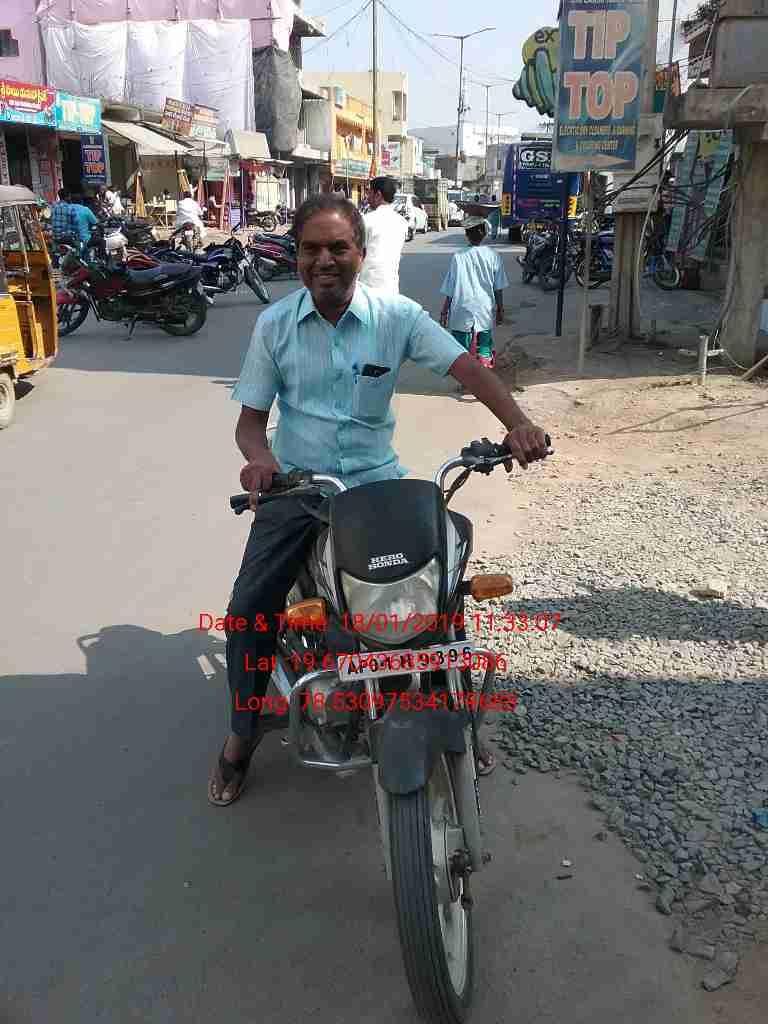without_helmet: (172, 172, 612, 1023)
